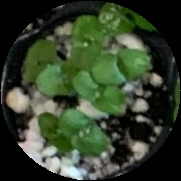Basil: (96, 46, 153, 86), (65, 110, 112, 151), (77, 74, 120, 115), (21, 37, 59, 83), (33, 60, 81, 95), (40, 115, 80, 154), (72, 15, 101, 65)
